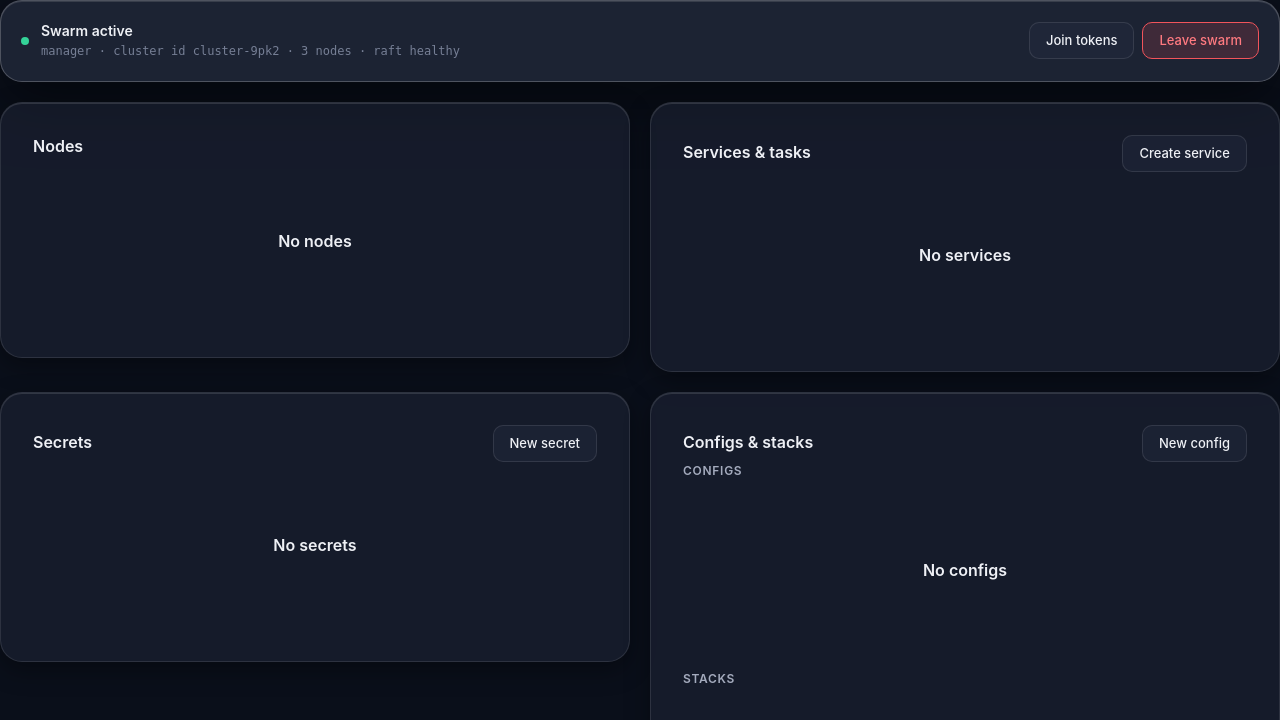
Test: SwarmScreen — the join tokens (swarm/specs/swarm-screen.md, REQ-80) › rotates a token on the spot and says the previous one no longer joins
Click the button "Join tokens": (1082, 41) [1029, 22, 1134, 59]
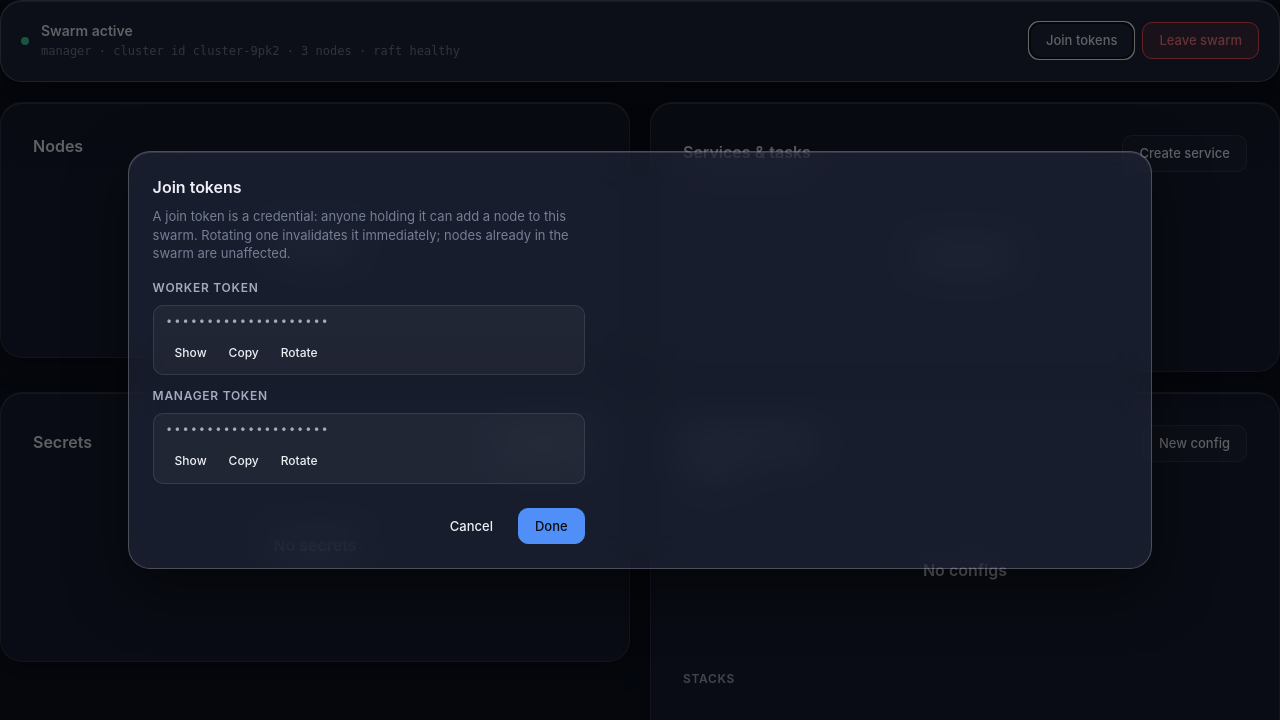
Click the button "Rotate" below "Worker token": (299, 353) [272, 339, 326, 366]
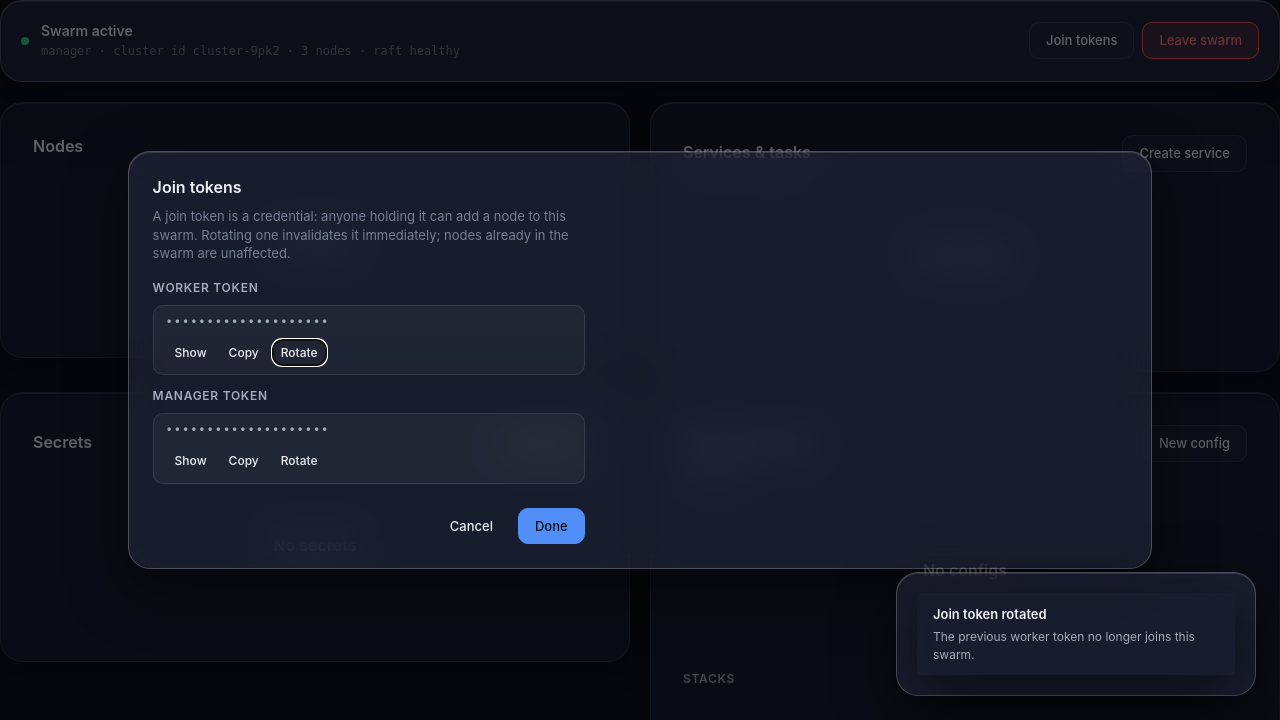
Result: the text "The previous worker token no longer joins this swarm." is shown at [933, 628, 1219, 663]
